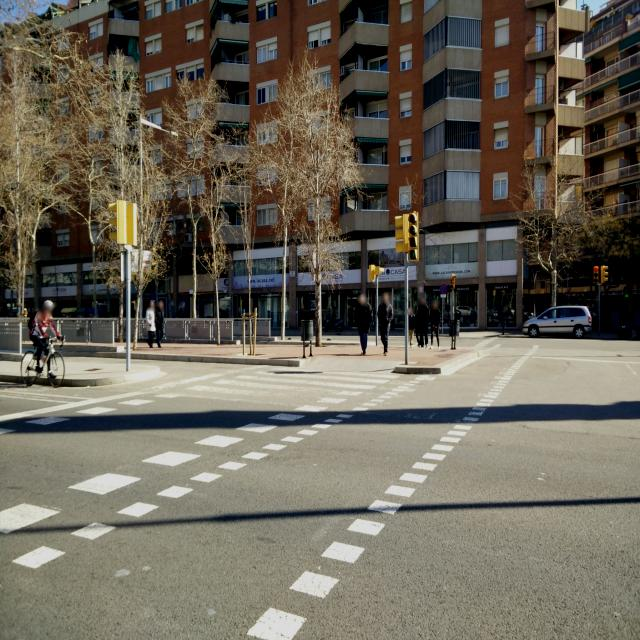bike: (20, 336, 67, 388)
car: (522, 304, 593, 338), (617, 307, 640, 340)
